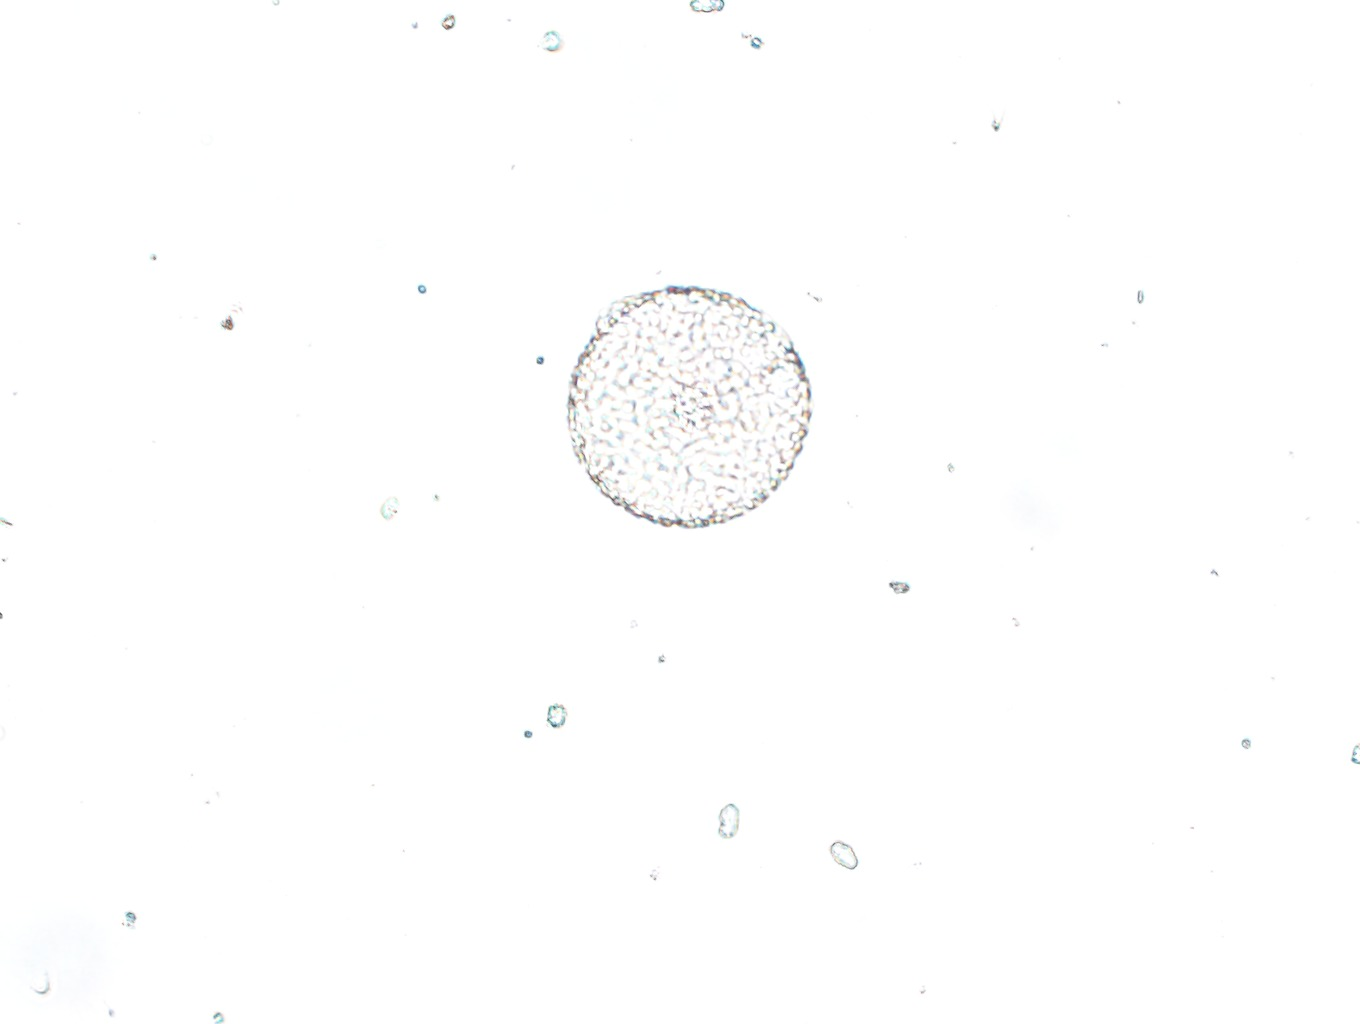coscinodiscus: (566, 280, 813, 531)
